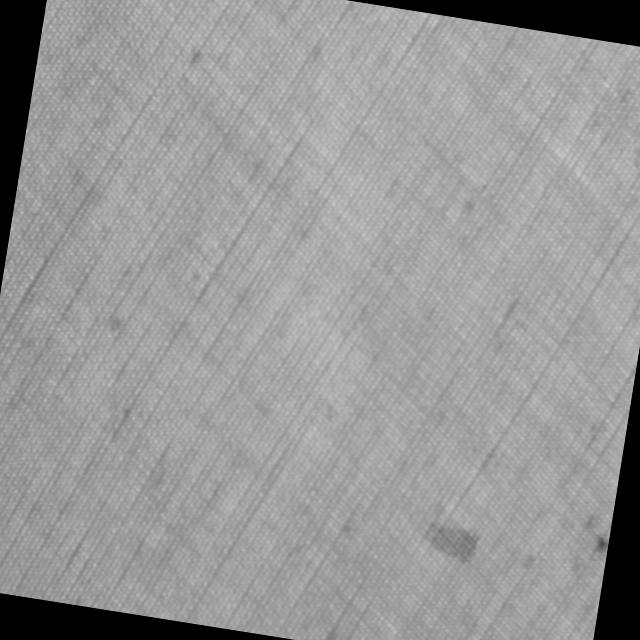oil spot: (421, 517, 484, 568)
